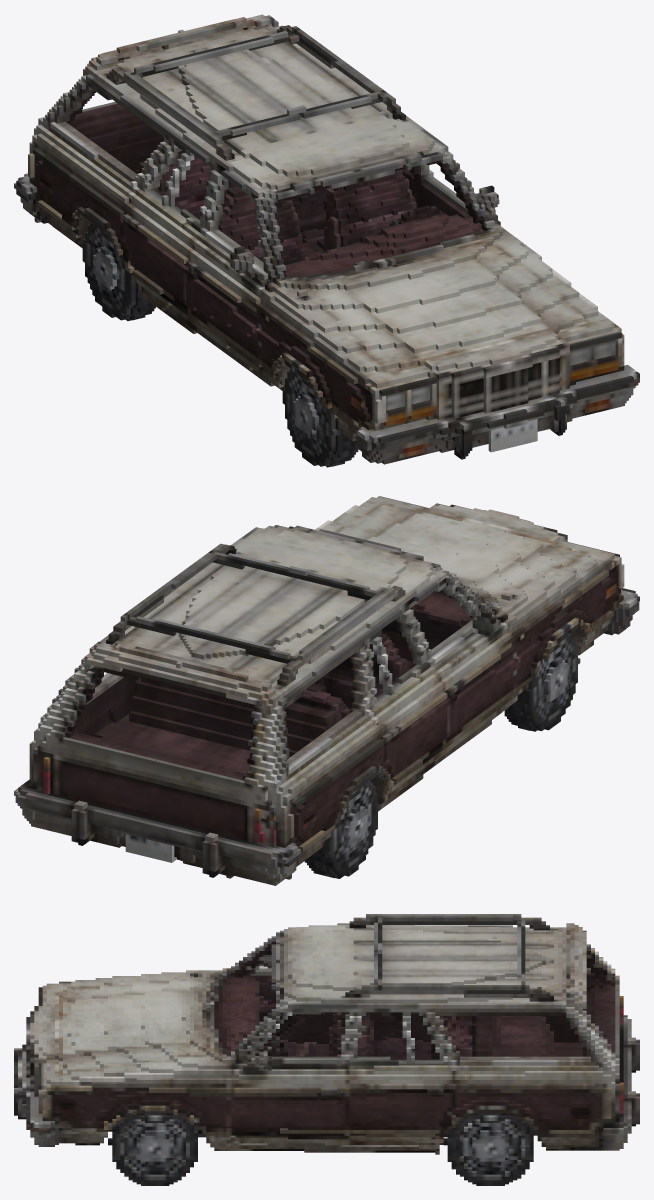
Rendered from CarStatic.fbx.
3 renders of one model, top to bottom at view 1: azimuth 30°, elevation 25°; view 2: azimuth 150°, elevation 25°; view 3: azimuth 270°, elevation 25°, orthographic. The views are drawn at different scales.
Parts seen in each view (by area): view 1: Voxelized_CarStatic; view 2: Voxelized_CarStatic; view 3: Voxelized_CarStatic.
Part boxes in pixels (bbox=[...]): Voxelized_CarStatic: bbox=[14, 14, 639, 467]; Voxelized_CarStatic: bbox=[14, 496, 639, 885]; Voxelized_CarStatic: bbox=[14, 914, 639, 1185].
Size of the model in its own units: 65 by 51 by 153.
Materials: 1 (1 with a texture image).
